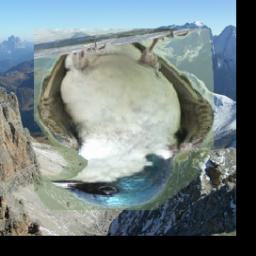Swallow: (35, 29, 215, 211)
